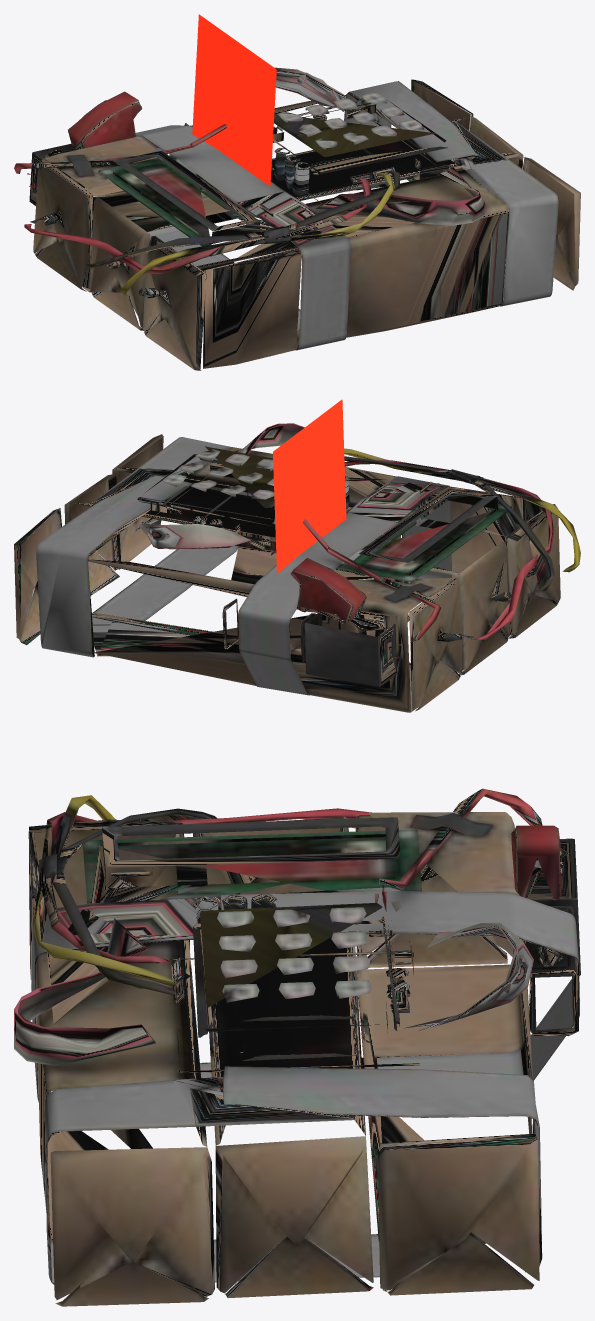
3 views of the same model, one above another, from view 1: azimuth 30°, elevation 25°; view 2: azimuth 150°, elevation 25°; view 3: azimuth 270°, elevation 25° (orthographic). The views are drawn at different scales.
Parts seen in each view (by area): view 1: p_c4; view 2: p_c4; view 3: p_c4.
Boxes of the visible parts, x1,y1,x2,y2 form: p_c4: (14,14,580,370); p_c4: (14,399,580,712); p_c4: (14,788,580,1306).
Bounding box in the file's own units: 0.3335 × 0.1685 × 0.2286.
2 materials, 1 textured.
